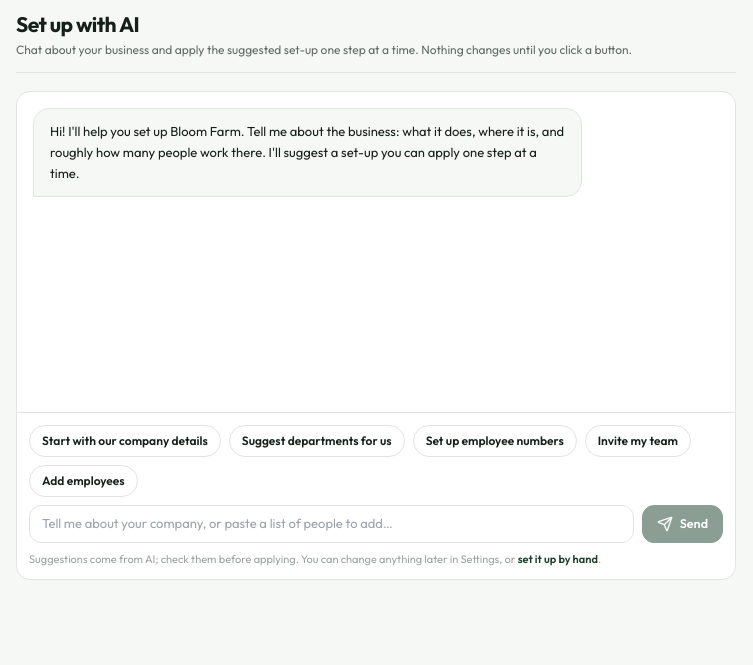
Test: Set up with AI › shows only what is new, applies it on a click, and tells the AI what became of it
This screenshot has width=753, height=665.
Replace the text in the text box named "Message" with "Finance and Farm." at coordinates (331, 524), box [29,505,634,542]
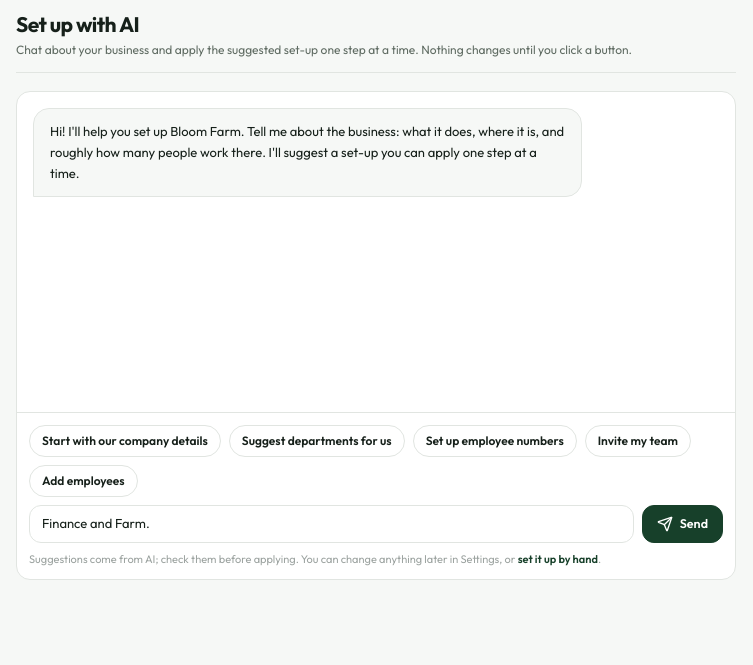
Click the button "Send" at coordinates (682, 524), box [642,505,723,542]
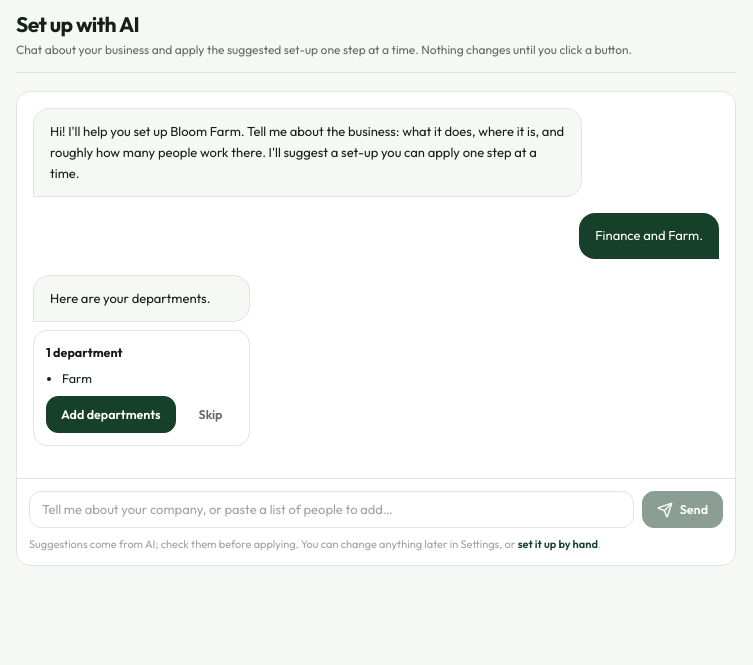
expect the text "1 department" is shown: met, box [46,343,122,361]
expect the list item "Farm" is shown: met, box [62,370,92,386]
Click the button "Add departments" at coordinates (111, 414), box [46,396,176,433]
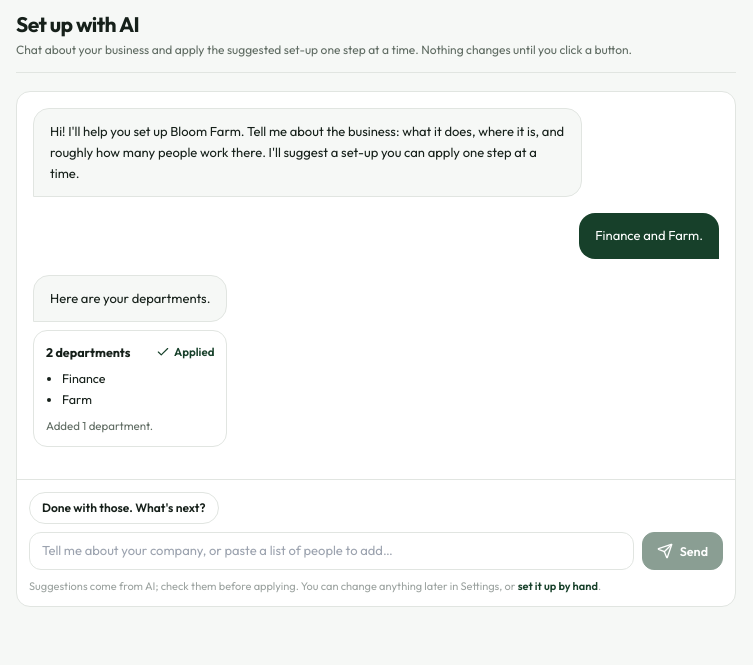
expect the text "Added 1 department." is shown: met, box [46,418,153,433]
expect the text "Applied" is shown: met, box [156,343,214,361]
Click the button "Done with those. What's next?" at coordinates (124, 508), box [29,492,219,524]
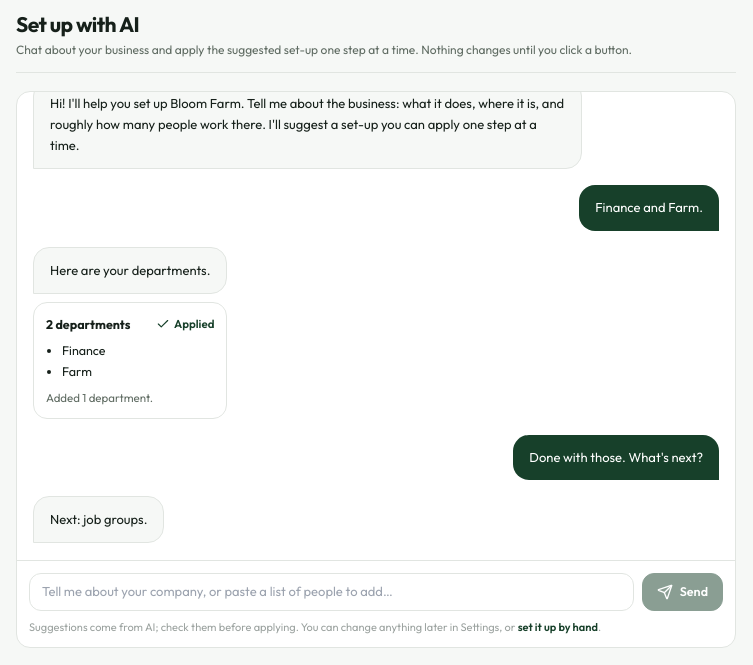
expect the text "Next: job groups." is shown: met, box [33,496,164,543]
